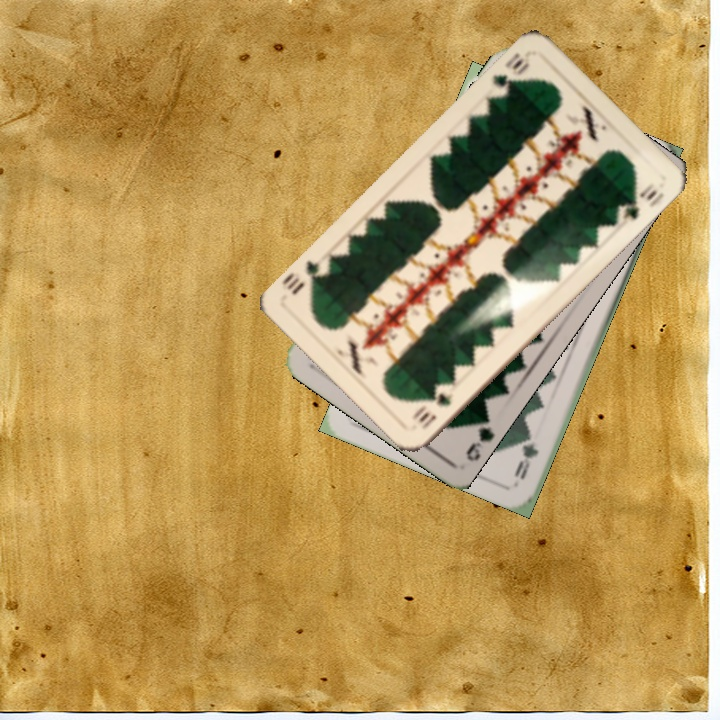G10: (488, 48, 533, 101), (410, 389, 456, 433)
G9: (461, 409, 496, 465), (510, 430, 541, 482)
